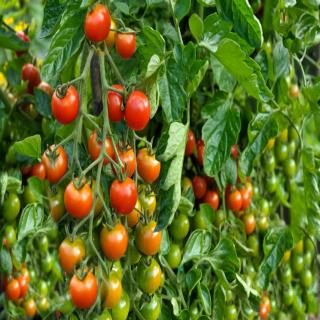Tomat: (52, 80, 80, 126), (70, 267, 99, 310), (65, 178, 94, 220), (110, 177, 139, 216), (84, 4, 112, 44), (101, 222, 129, 262), (125, 91, 152, 132), (42, 144, 69, 184), (89, 128, 115, 167), (137, 148, 162, 184), (116, 30, 137, 60)
